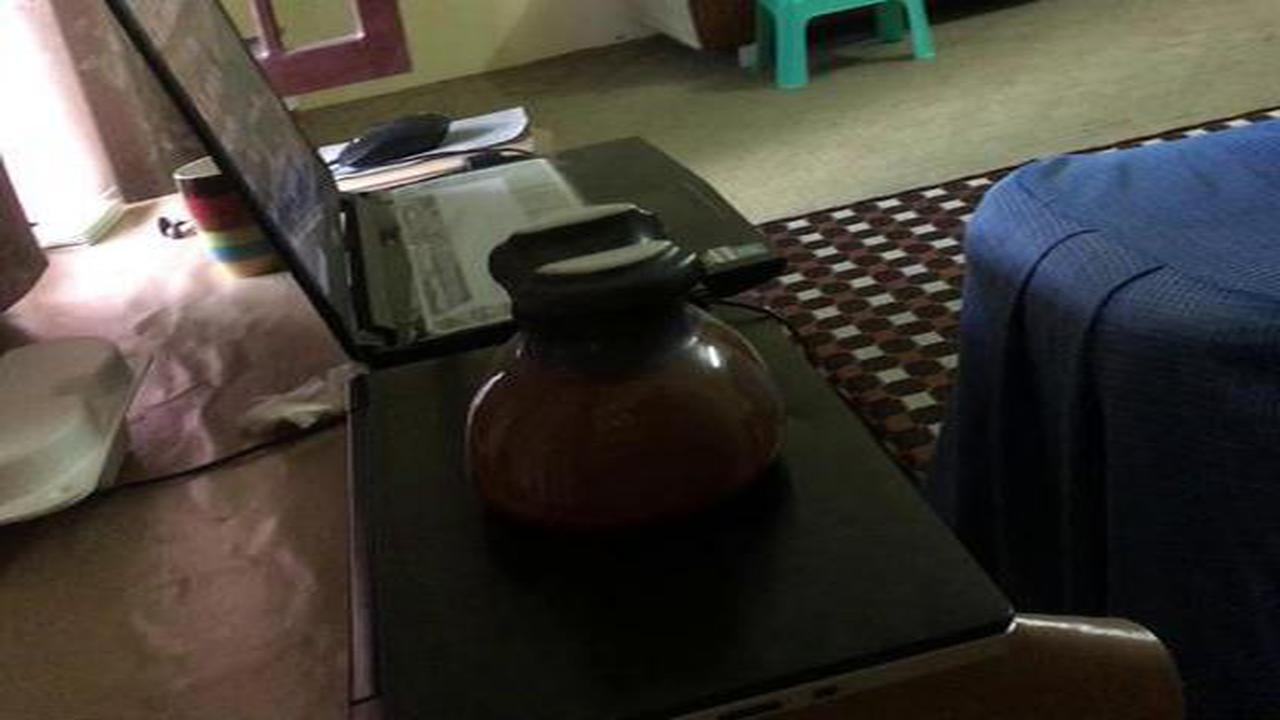insulator_pin: (434, 194, 810, 553)
